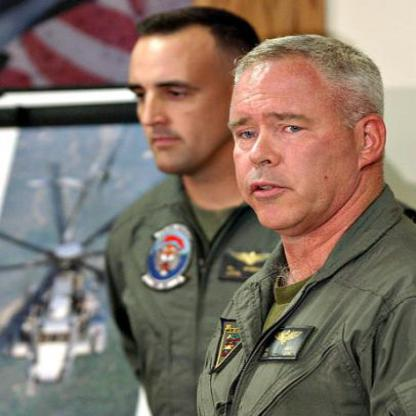face: (218, 42, 358, 236), (120, 17, 237, 175)
